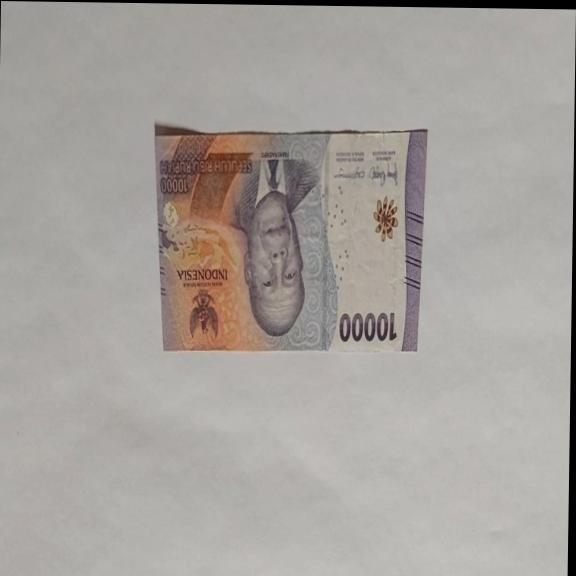Kertas: (150, 124, 427, 357), (337, 309, 397, 344)
